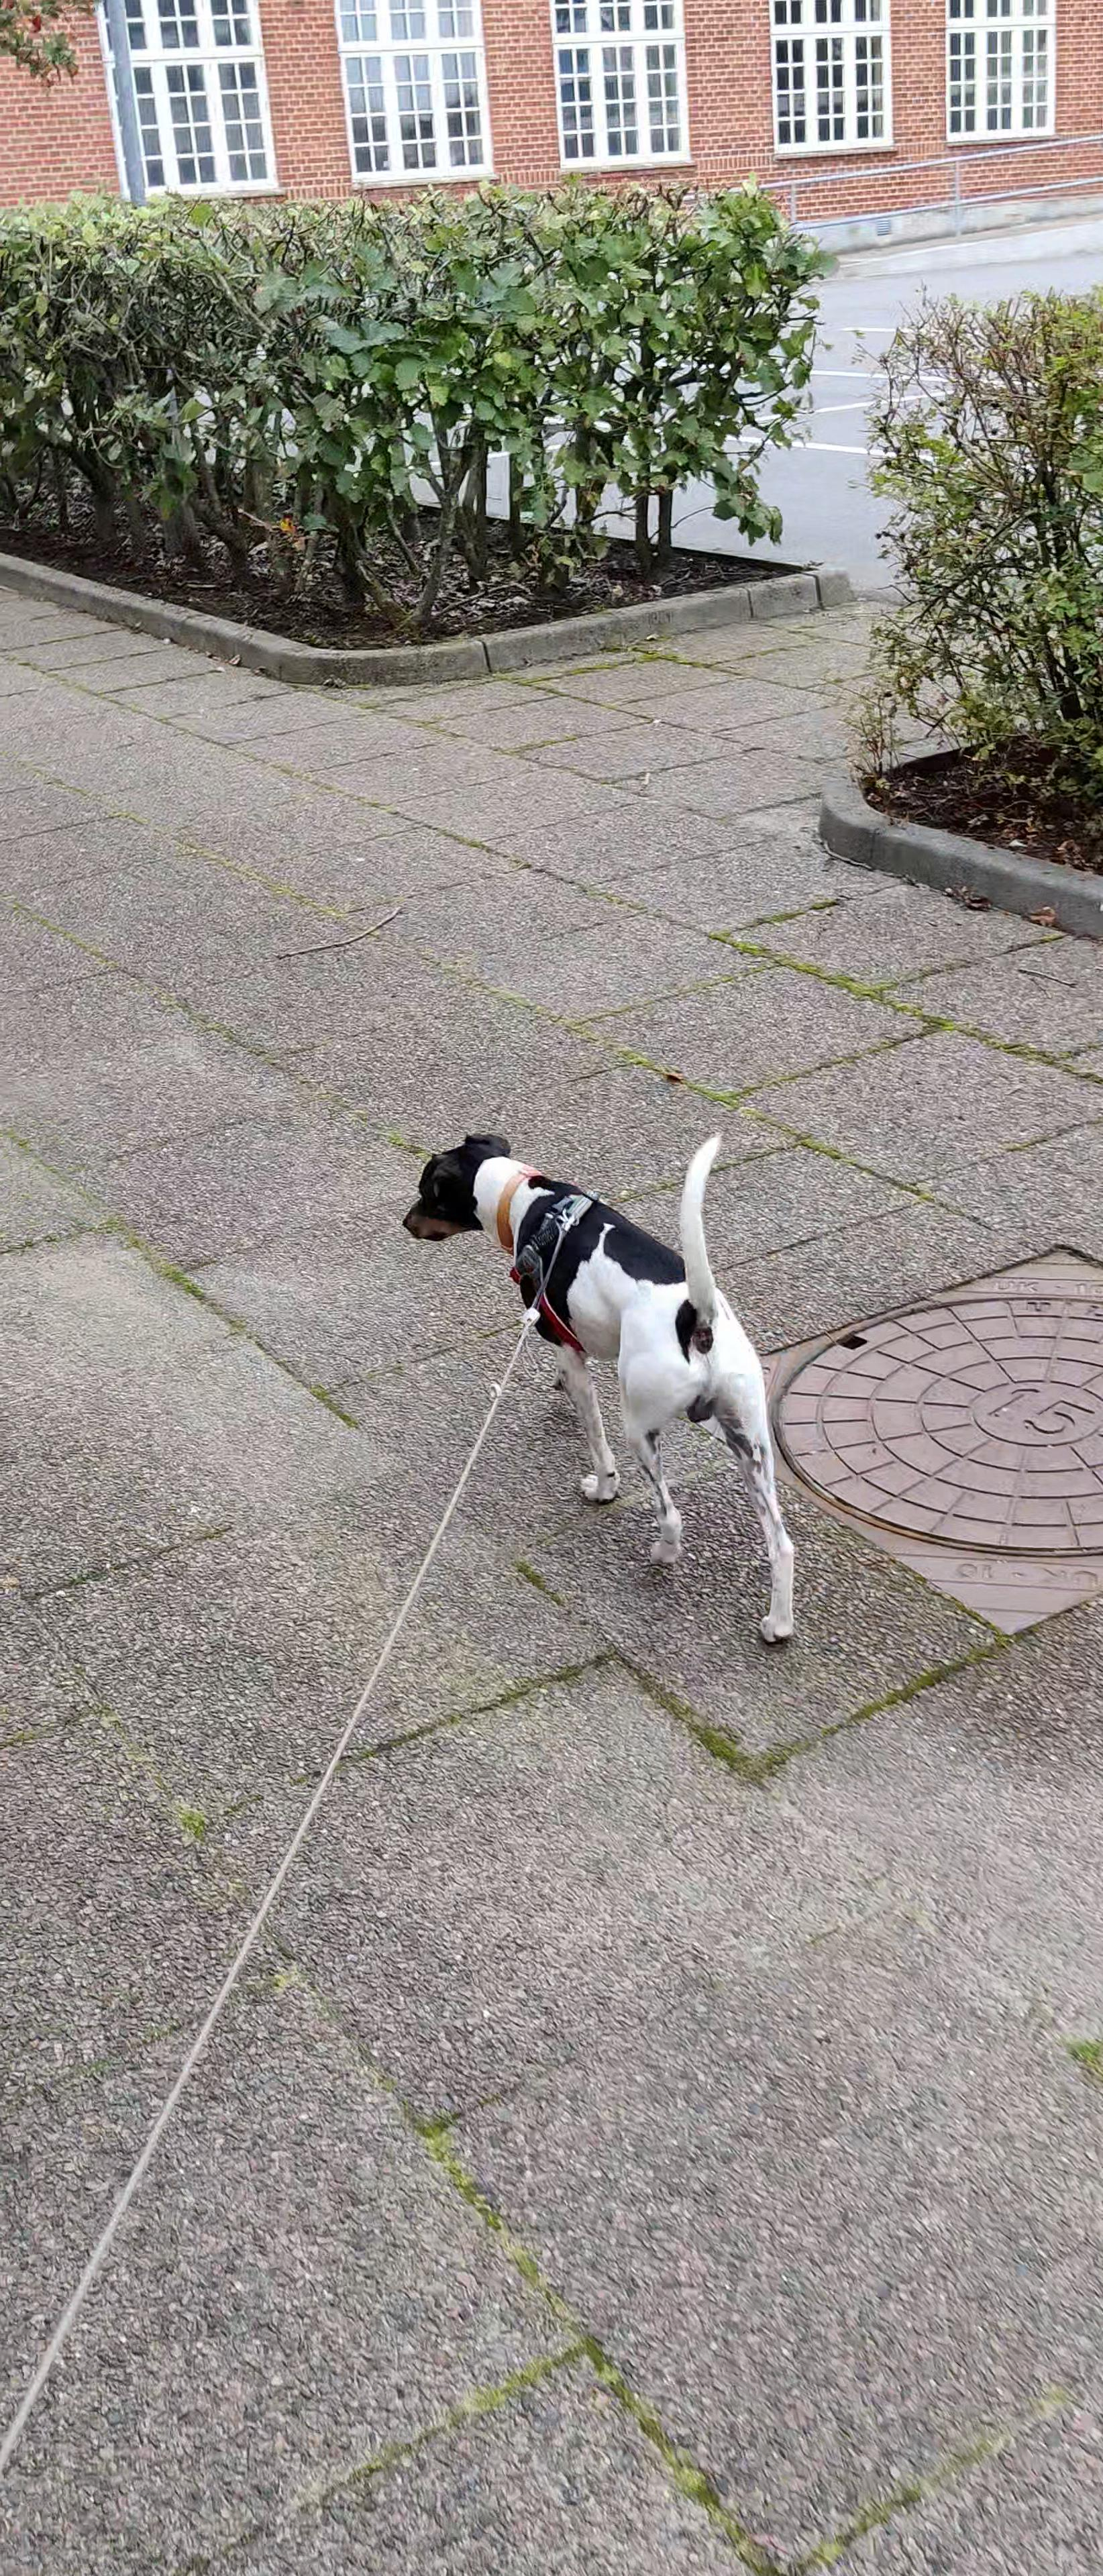Dog: (396, 1127, 810, 1653)
